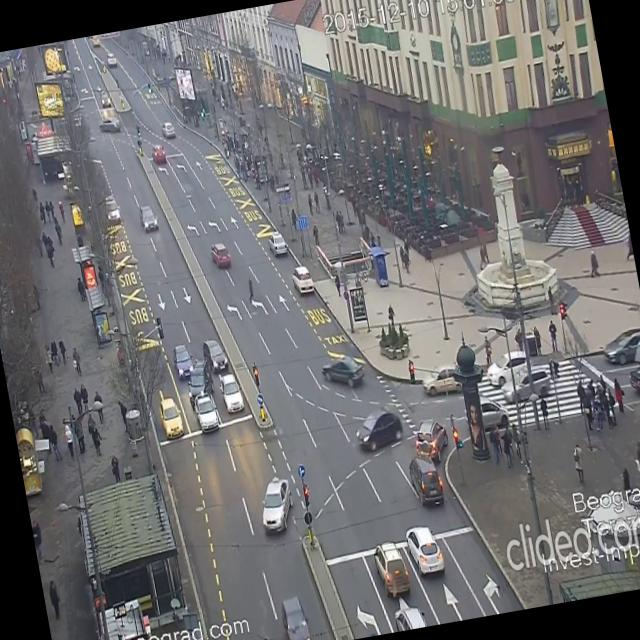car: (499, 361, 556, 407), (254, 473, 296, 534), (372, 538, 412, 600), (404, 522, 446, 578), (352, 407, 404, 452), (410, 414, 451, 466), (464, 392, 510, 437), (319, 352, 366, 392), (278, 594, 312, 640), (487, 354, 532, 386), (420, 366, 463, 398), (156, 394, 185, 440), (185, 360, 214, 402), (604, 328, 640, 361), (192, 391, 218, 432), (201, 338, 226, 372), (220, 373, 242, 410), (290, 263, 314, 296), (171, 347, 195, 378), (208, 240, 232, 269), (266, 230, 288, 258), (138, 204, 158, 232), (102, 192, 119, 224), (628, 356, 640, 396), (149, 142, 166, 164), (98, 118, 122, 133), (98, 89, 112, 111), (160, 120, 176, 138), (105, 50, 117, 68), (634, 334, 640, 369)
